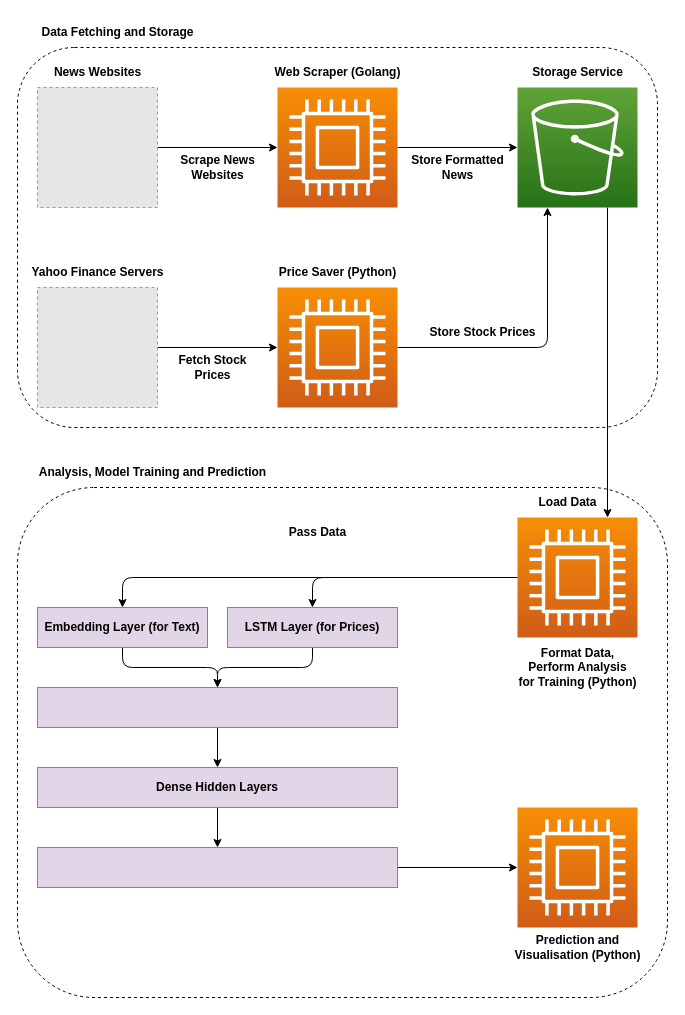
Some shapes in this 685 by 1015 pixel diagram are drawn without their labels. Grey dashed boxes stand in for pictures. The shapes that lost their labels are listed below. From the top down, each one's box as (x1, y1, x2, y2) in pixels, then its label:
(36, 686, 398, 728): Concatenation Layer
(36, 846, 398, 888): Dense Output Layer
